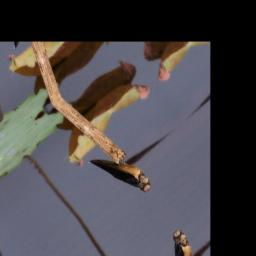Swallow: (87, 133, 154, 214)
